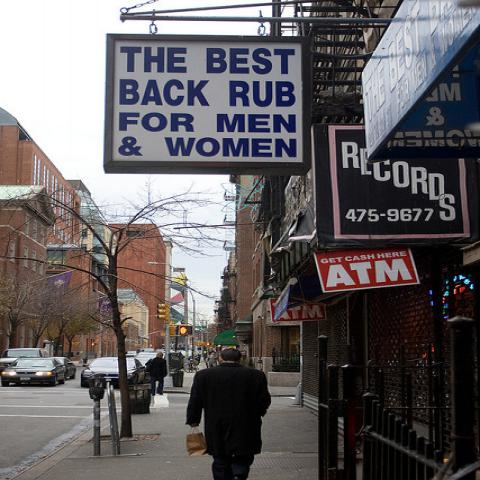car: (1, 358, 67, 388), (82, 356, 144, 386), (0, 348, 50, 370), (52, 356, 78, 377), (136, 352, 165, 367), (126, 351, 137, 356), (141, 349, 154, 352)
